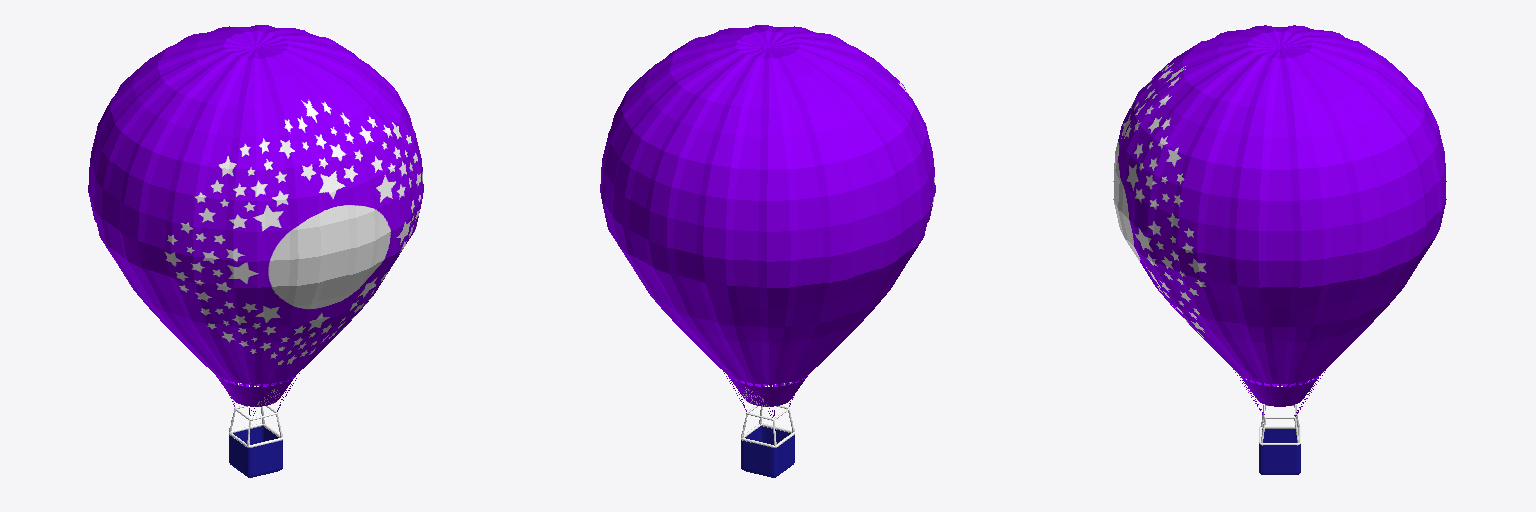
3 views of the same model, side by side, from view 1: azimuth 30°, elevation 25°; view 2: azimuth 150°, elevation 25°; view 3: azimuth 270°, elevation 25° (orthographic).
Parts seen in each view (by area): view 1: J2_Sphere001, J2_Box001, J2_Object001; view 2: J2_Sphere001, J2_Box001, J2_Object001; view 3: J2_Sphere001, J2_Box001, J2_Object001.
Boxes of the visible parts, x1=… form: J2_Sphere001: x1=88, y1=25, x2=423, y2=384; J2_Box001: x1=229, y1=426, x2=282, y2=477; J2_Object001: x1=215, y1=374, x2=295, y2=406; J2_Sphere001: x1=600, y1=25, x2=935, y2=384; J2_Box001: x1=741, y1=426, x2=794, y2=477; J2_Object001: x1=728, y1=374, x2=808, y2=406; J2_Sphere001: x1=1113, y1=25, x2=1446, y2=383; J2_Box001: x1=1259, y1=429, x2=1300, y2=474; J2_Object001: x1=1241, y1=376, x2=1318, y2=406.
Size of the model in its own units: 9.56 by 13.4 by 9.56.
Materials: 5 (1 with a texture image).